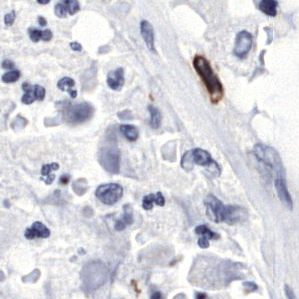Lymphocyte: (191, 55, 225, 104)
